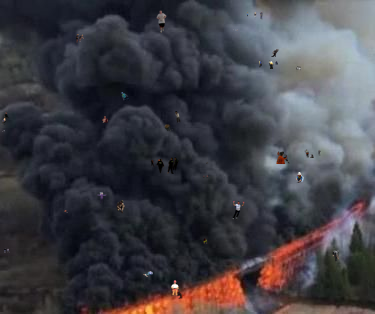Human: (276, 149, 309, 164), (150, 157, 179, 174), (232, 199, 248, 221), (168, 280, 184, 299), (156, 10, 167, 33), (90, 192, 107, 204), (202, 238, 213, 253), (0, 112, 9, 129), (258, 60, 274, 69), (116, 200, 125, 214), (331, 250, 340, 263), (164, 121, 174, 132), (296, 172, 304, 183), (254, 11, 263, 20), (121, 92, 130, 101), (271, 48, 279, 57), (190, 175, 208, 179), (76, 34, 84, 43), (175, 111, 181, 123), (143, 271, 153, 277), (102, 116, 108, 123), (4, 248, 10, 253), (296, 66, 301, 71), (318, 150, 321, 156), (310, 154, 314, 158), (233, 29, 240, 31), (275, 61, 278, 65), (64, 210, 68, 213), (2, 130, 5, 132), (247, 12, 248, 17), (206, 162, 208, 164), (41, 131, 42, 132)
